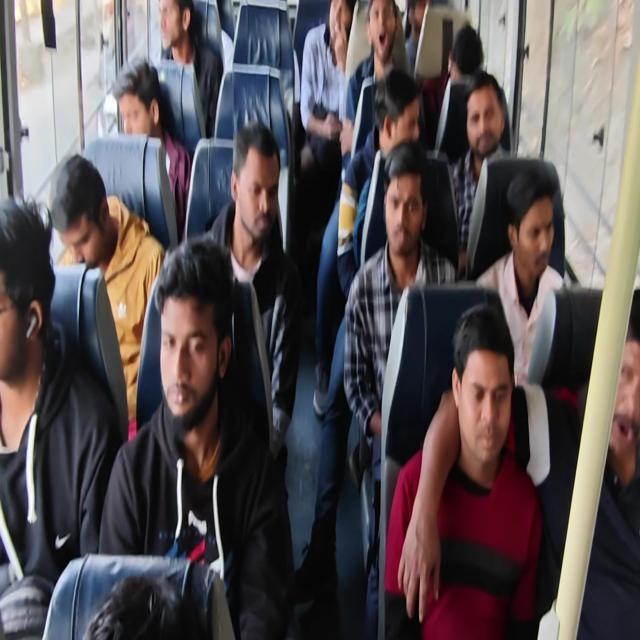person: (1, 1, 638, 638), (97, 236, 294, 638), (342, 140, 458, 636), (0, 195, 122, 638), (383, 302, 543, 638), (312, 1, 410, 418), (538, 286, 639, 639), (201, 120, 301, 474), (49, 153, 166, 441), (336, 68, 423, 298), (475, 168, 565, 387), (112, 58, 191, 241), (448, 69, 512, 277), (342, 1, 409, 164), (300, 0, 356, 173), (156, 0, 222, 137), (422, 22, 484, 162), (83, 572, 208, 639), (403, 0, 429, 77)
